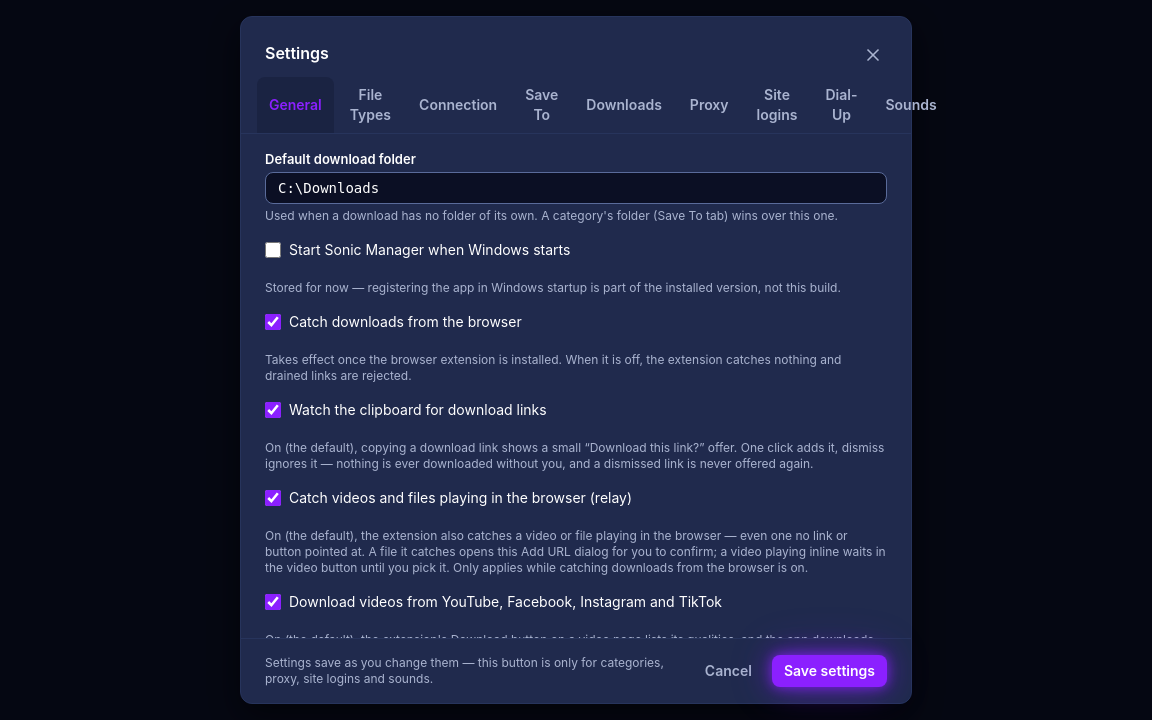
immediate settings writes (Round 87.5) › an out-of-range number reverts on blur and shows the error
This screenshot has width=1152, height=720.
Click the tab "Connection": (458, 105) x1=407 y1=77 x2=509 y2=133
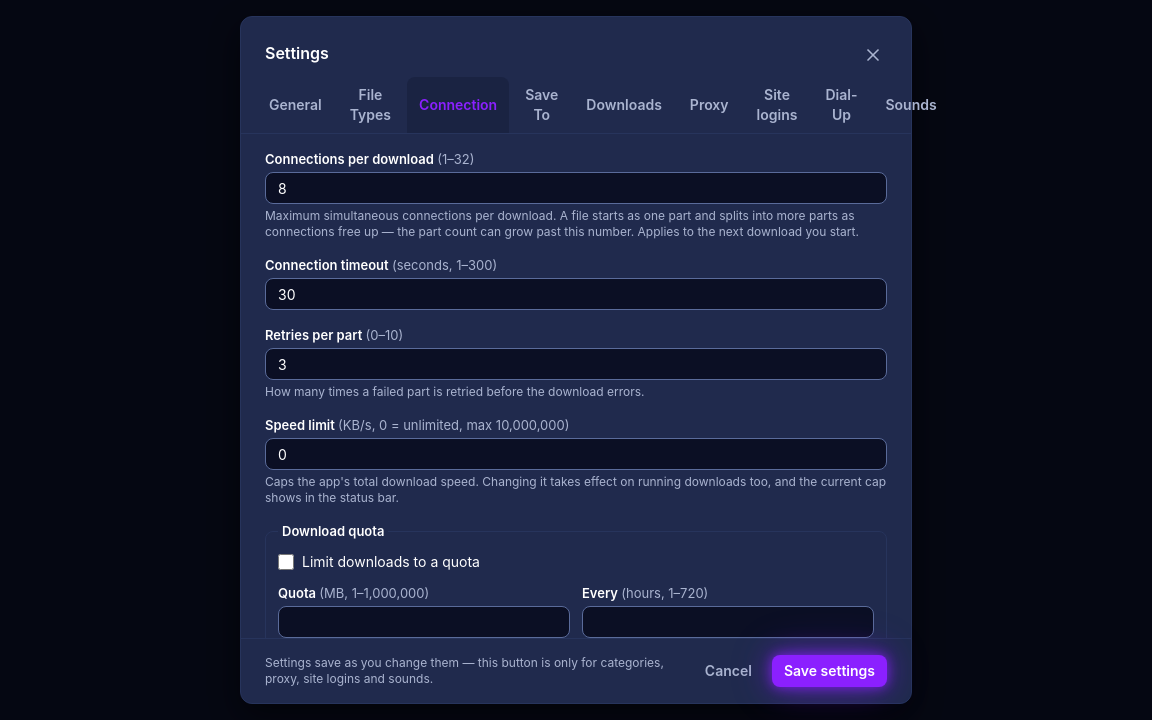
Expected: the number field labelled "Connection timeout (seconds, 1–300)" holds "30"
Replace the text in the number field labelled "Connection timeout (seconds, 1–300)" with "0": (576, 294) x1=265 y1=278 x2=887 y2=310
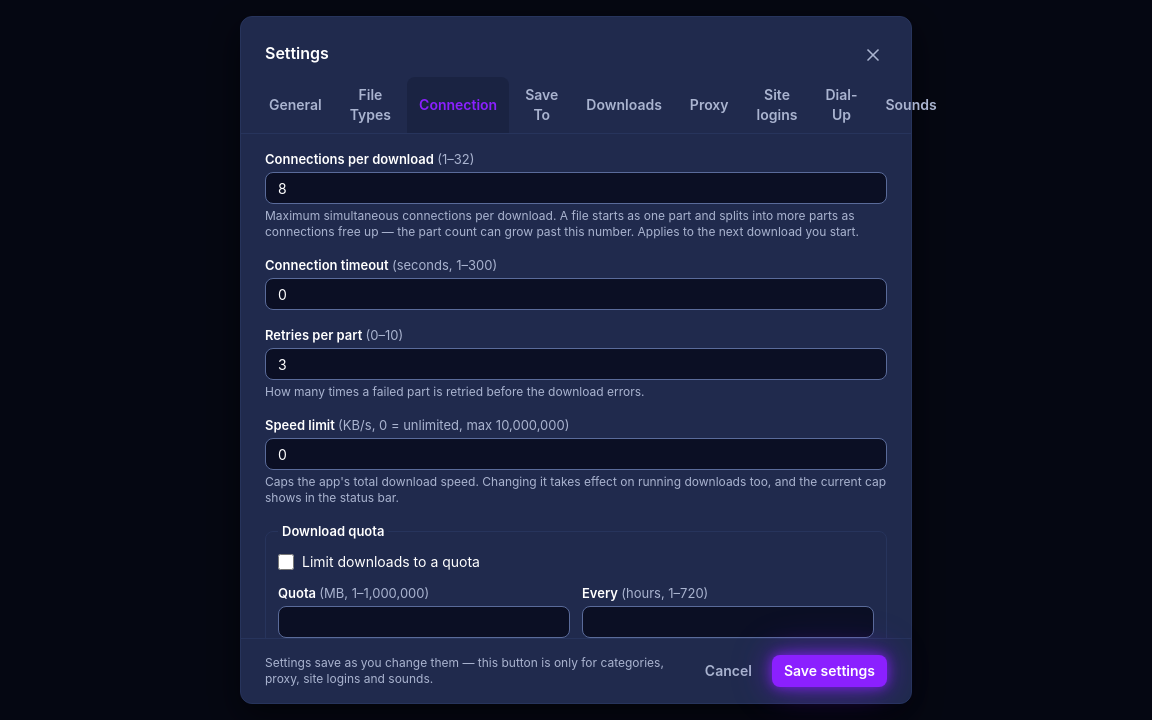
Leave the number field labelled "Connection timeout (seconds, 1–300)", box x1=265 y1=278 x2=887 y2=310
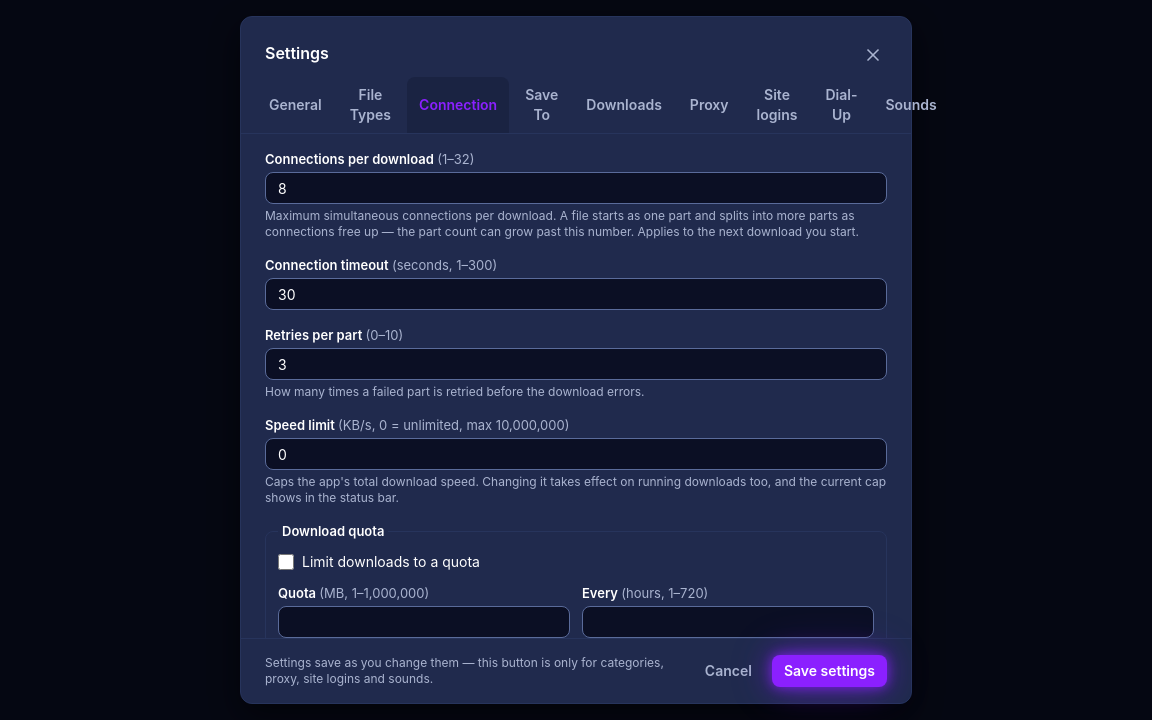
Expected: the number field labelled "Connection timeout (seconds, 1–300)" holds "30", x1=265 y1=278 x2=887 y2=310
